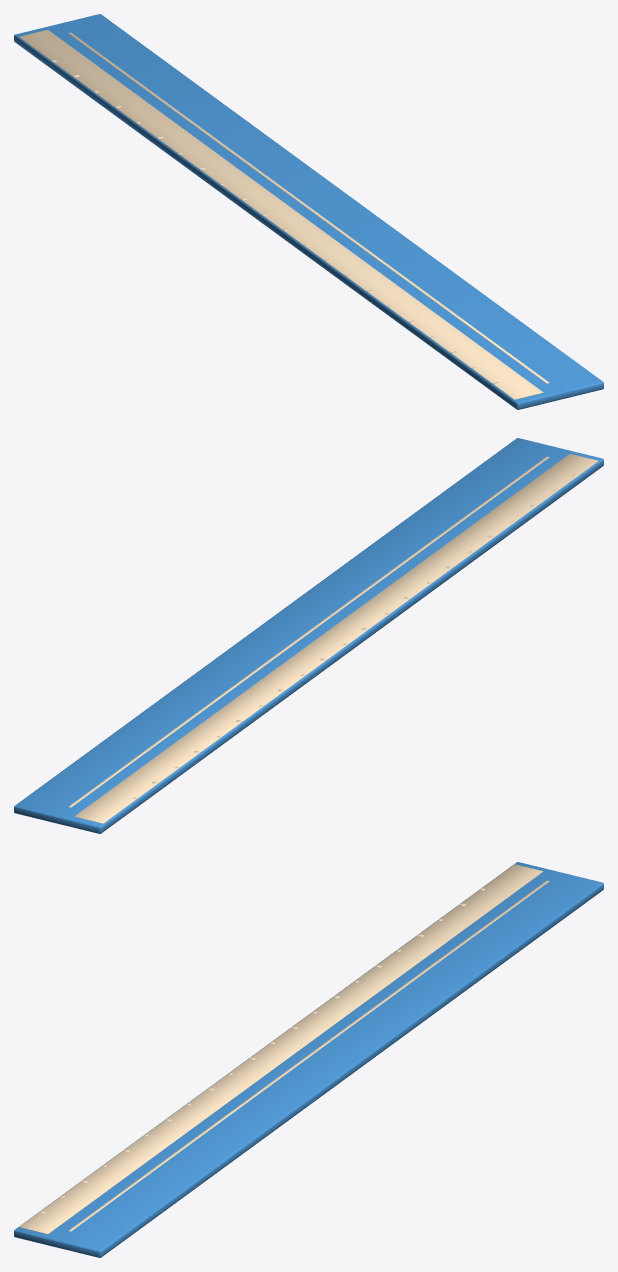
File: prop_ruler_v2.glb
3 renders of one model, top to bottom at view 1: azimuth 30°, elevation 25°; view 2: azimuth 150°, elevation 25°; view 3: azimuth 330°, elevation 25°, orthographic.
Parts seen in each view (by area): view 1: RulerV2; view 2: RulerV2; view 3: RulerV2.
Boxes of the visible parts, left/top/right/bottom form: RulerV2: left=14, top=14, right=603, bottom=409; RulerV2: left=14, top=438, right=603, bottom=833; RulerV2: left=14, top=862, right=603, bottom=1257.
Size of the model in its own units: 1.2 by 0.106 by 12.
